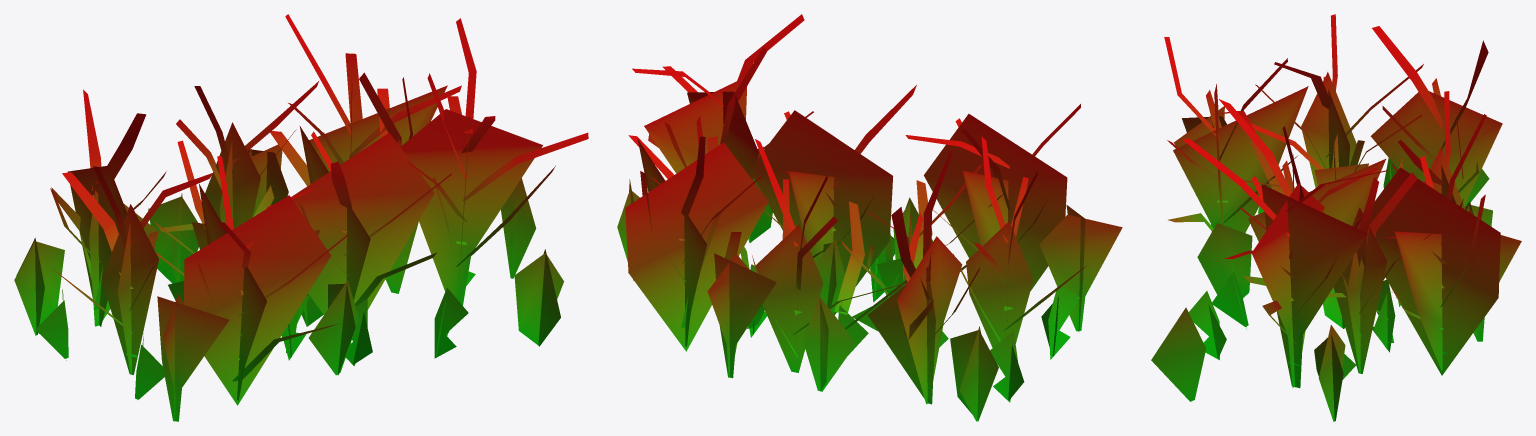
File: Var1_LOD2.fbx
3 views of the same model, side by side, from view 1: azimuth 30°, elevation 25°; view 2: azimuth 150°, elevation 25°; view 3: azimuth 270°, elevation 25° (orthographic). The views are drawn at different scales.
Visible parts, largest first — view 1: _2rqb_Var1_LOD2; view 2: _2rqb_Var1_LOD2; view 3: _2rqb_Var1_LOD2.
Part boxes in pixels (x1,y1,x2,y2): _2rqb_Var1_LOD2: (14, 14, 588, 421); _2rqb_Var1_LOD2: (617, 14, 1122, 421); _2rqb_Var1_LOD2: (1151, 14, 1521, 421).
Bounding box in the file's own units: 43.5 × 22.06 × 29.32.
